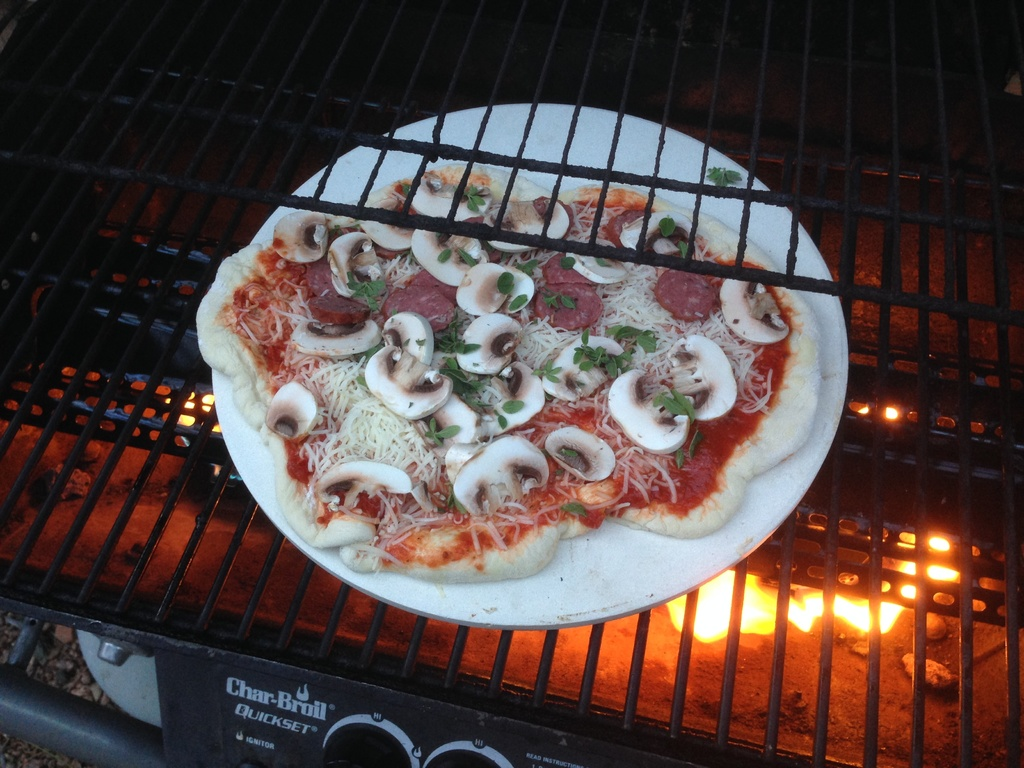Pizza: (195, 98, 855, 631)
